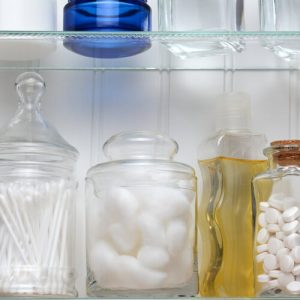glass_bottle: (82, 127, 201, 299), (1, 68, 84, 300)
